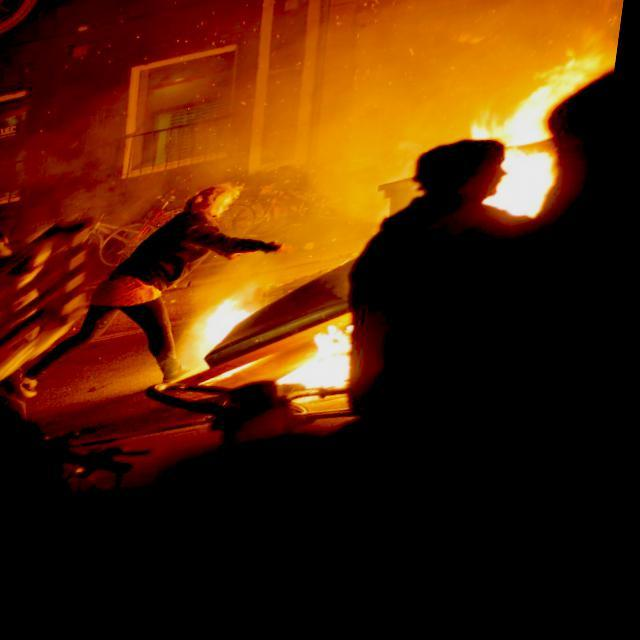Fire: (454, 81, 604, 256), (290, 338, 372, 418), (198, 298, 284, 374)
